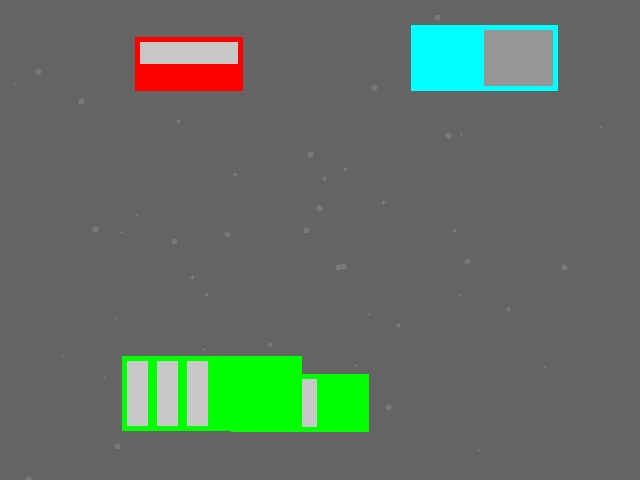bus: (122, 356, 301, 430), (231, 374, 368, 431)
car: (135, 37, 242, 90)
truck: (411, 25, 557, 90)
